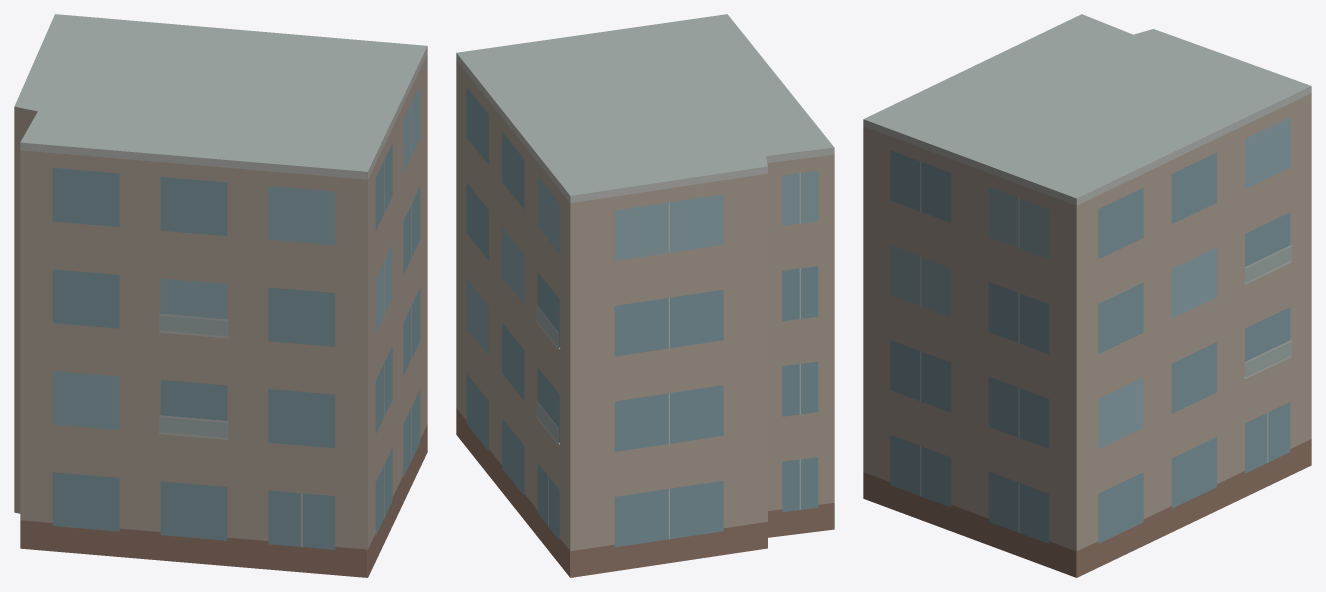
Rendered from survey-upis-33027754.glb.
3 renders of one model, left to right at view 1: azimuth 30°, elevation 25°; view 2: azimuth 150°, elevation 25°; view 3: azimuth 270°, elevation 25°, orthographic. The views are drawn at different scales.
Parts seen in each view (by area): view 1: survey-upis-33027754.tmp; view 2: survey-upis-33027754.tmp; view 3: survey-upis-33027754.tmp.
Part boxes in pixels (x1=…): survey-upis-33027754.tmp: x1=14, y1=14, x2=427, y2=577; survey-upis-33027754.tmp: x1=456, y1=14, x2=834, y2=577; survey-upis-33027754.tmp: x1=863, y1=14, x2=1311, y2=577.
Size of the model in its own units: 13.45 by 12.89 by 13.81.
